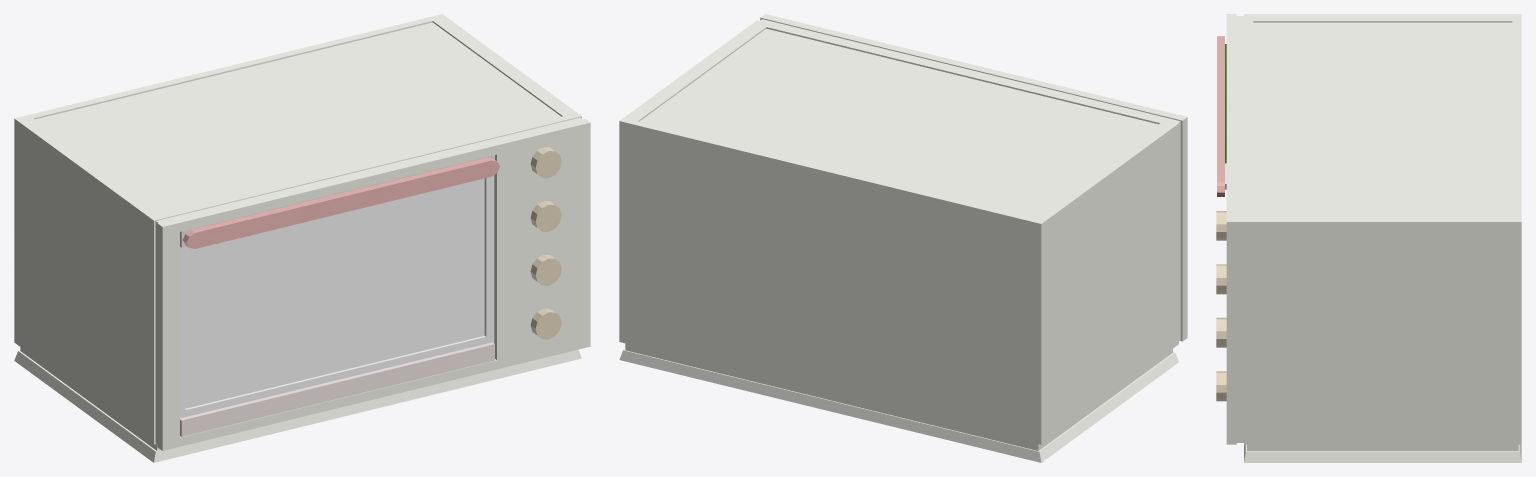
Rendered from SM_Oven.fbx.
3 renders of one model, left to right at view 1: azimuth 30°, elevation 25°; view 2: azimuth 150°, elevation 25°; view 3: azimuth 270°, elevation 25°, orthographic.
Parts seen in each view (by area): view 1: SM_Oven; view 2: SM_Oven; view 3: SM_Oven.
Boxes of the visible parts, box(x1,y1,x2,y2) form: SM_Oven: box(14, 14, 590, 462); SM_Oven: box(619, 14, 1187, 462); SM_Oven: box(1216, 14, 1521, 462).
Size of the model in its own units: 50 by 27.04 by 31.04.
